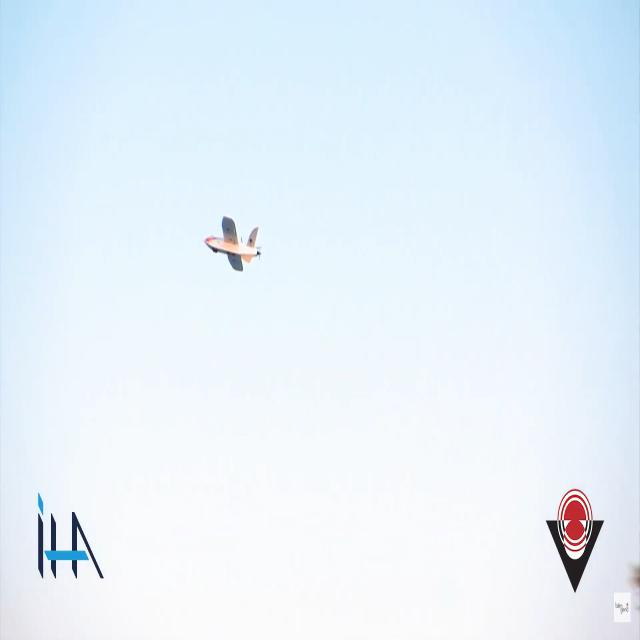iha: (202, 215, 262, 272)
